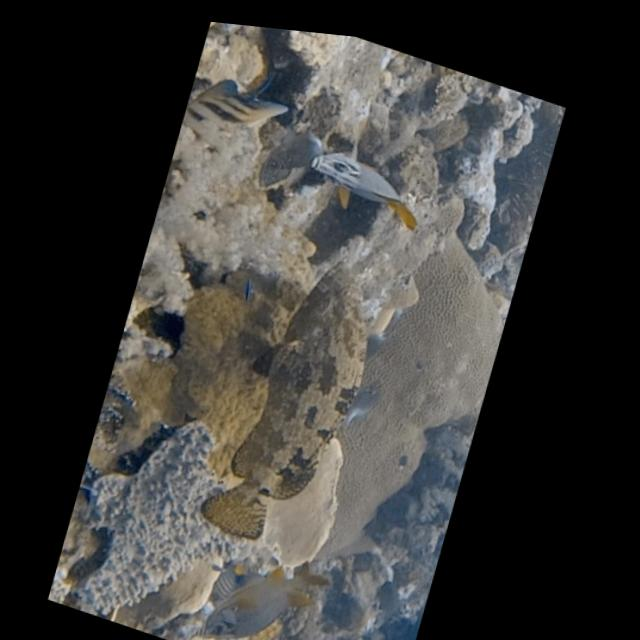Groupers: (191, 229, 389, 568)
